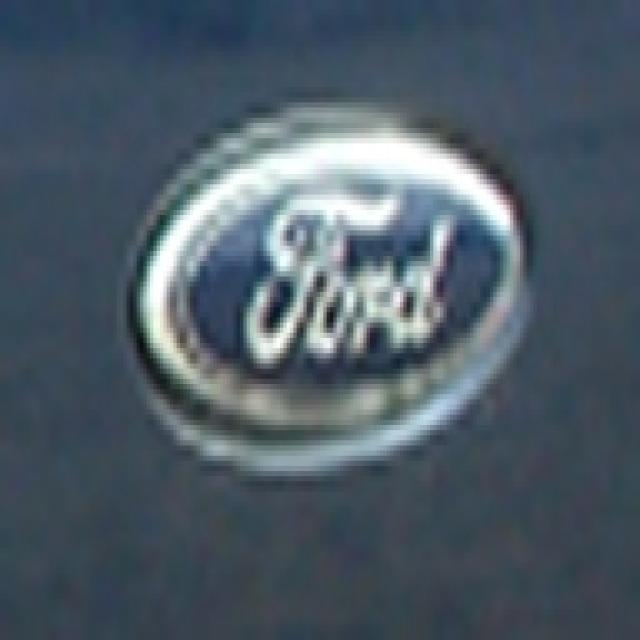ford: (111, 104, 534, 493)
